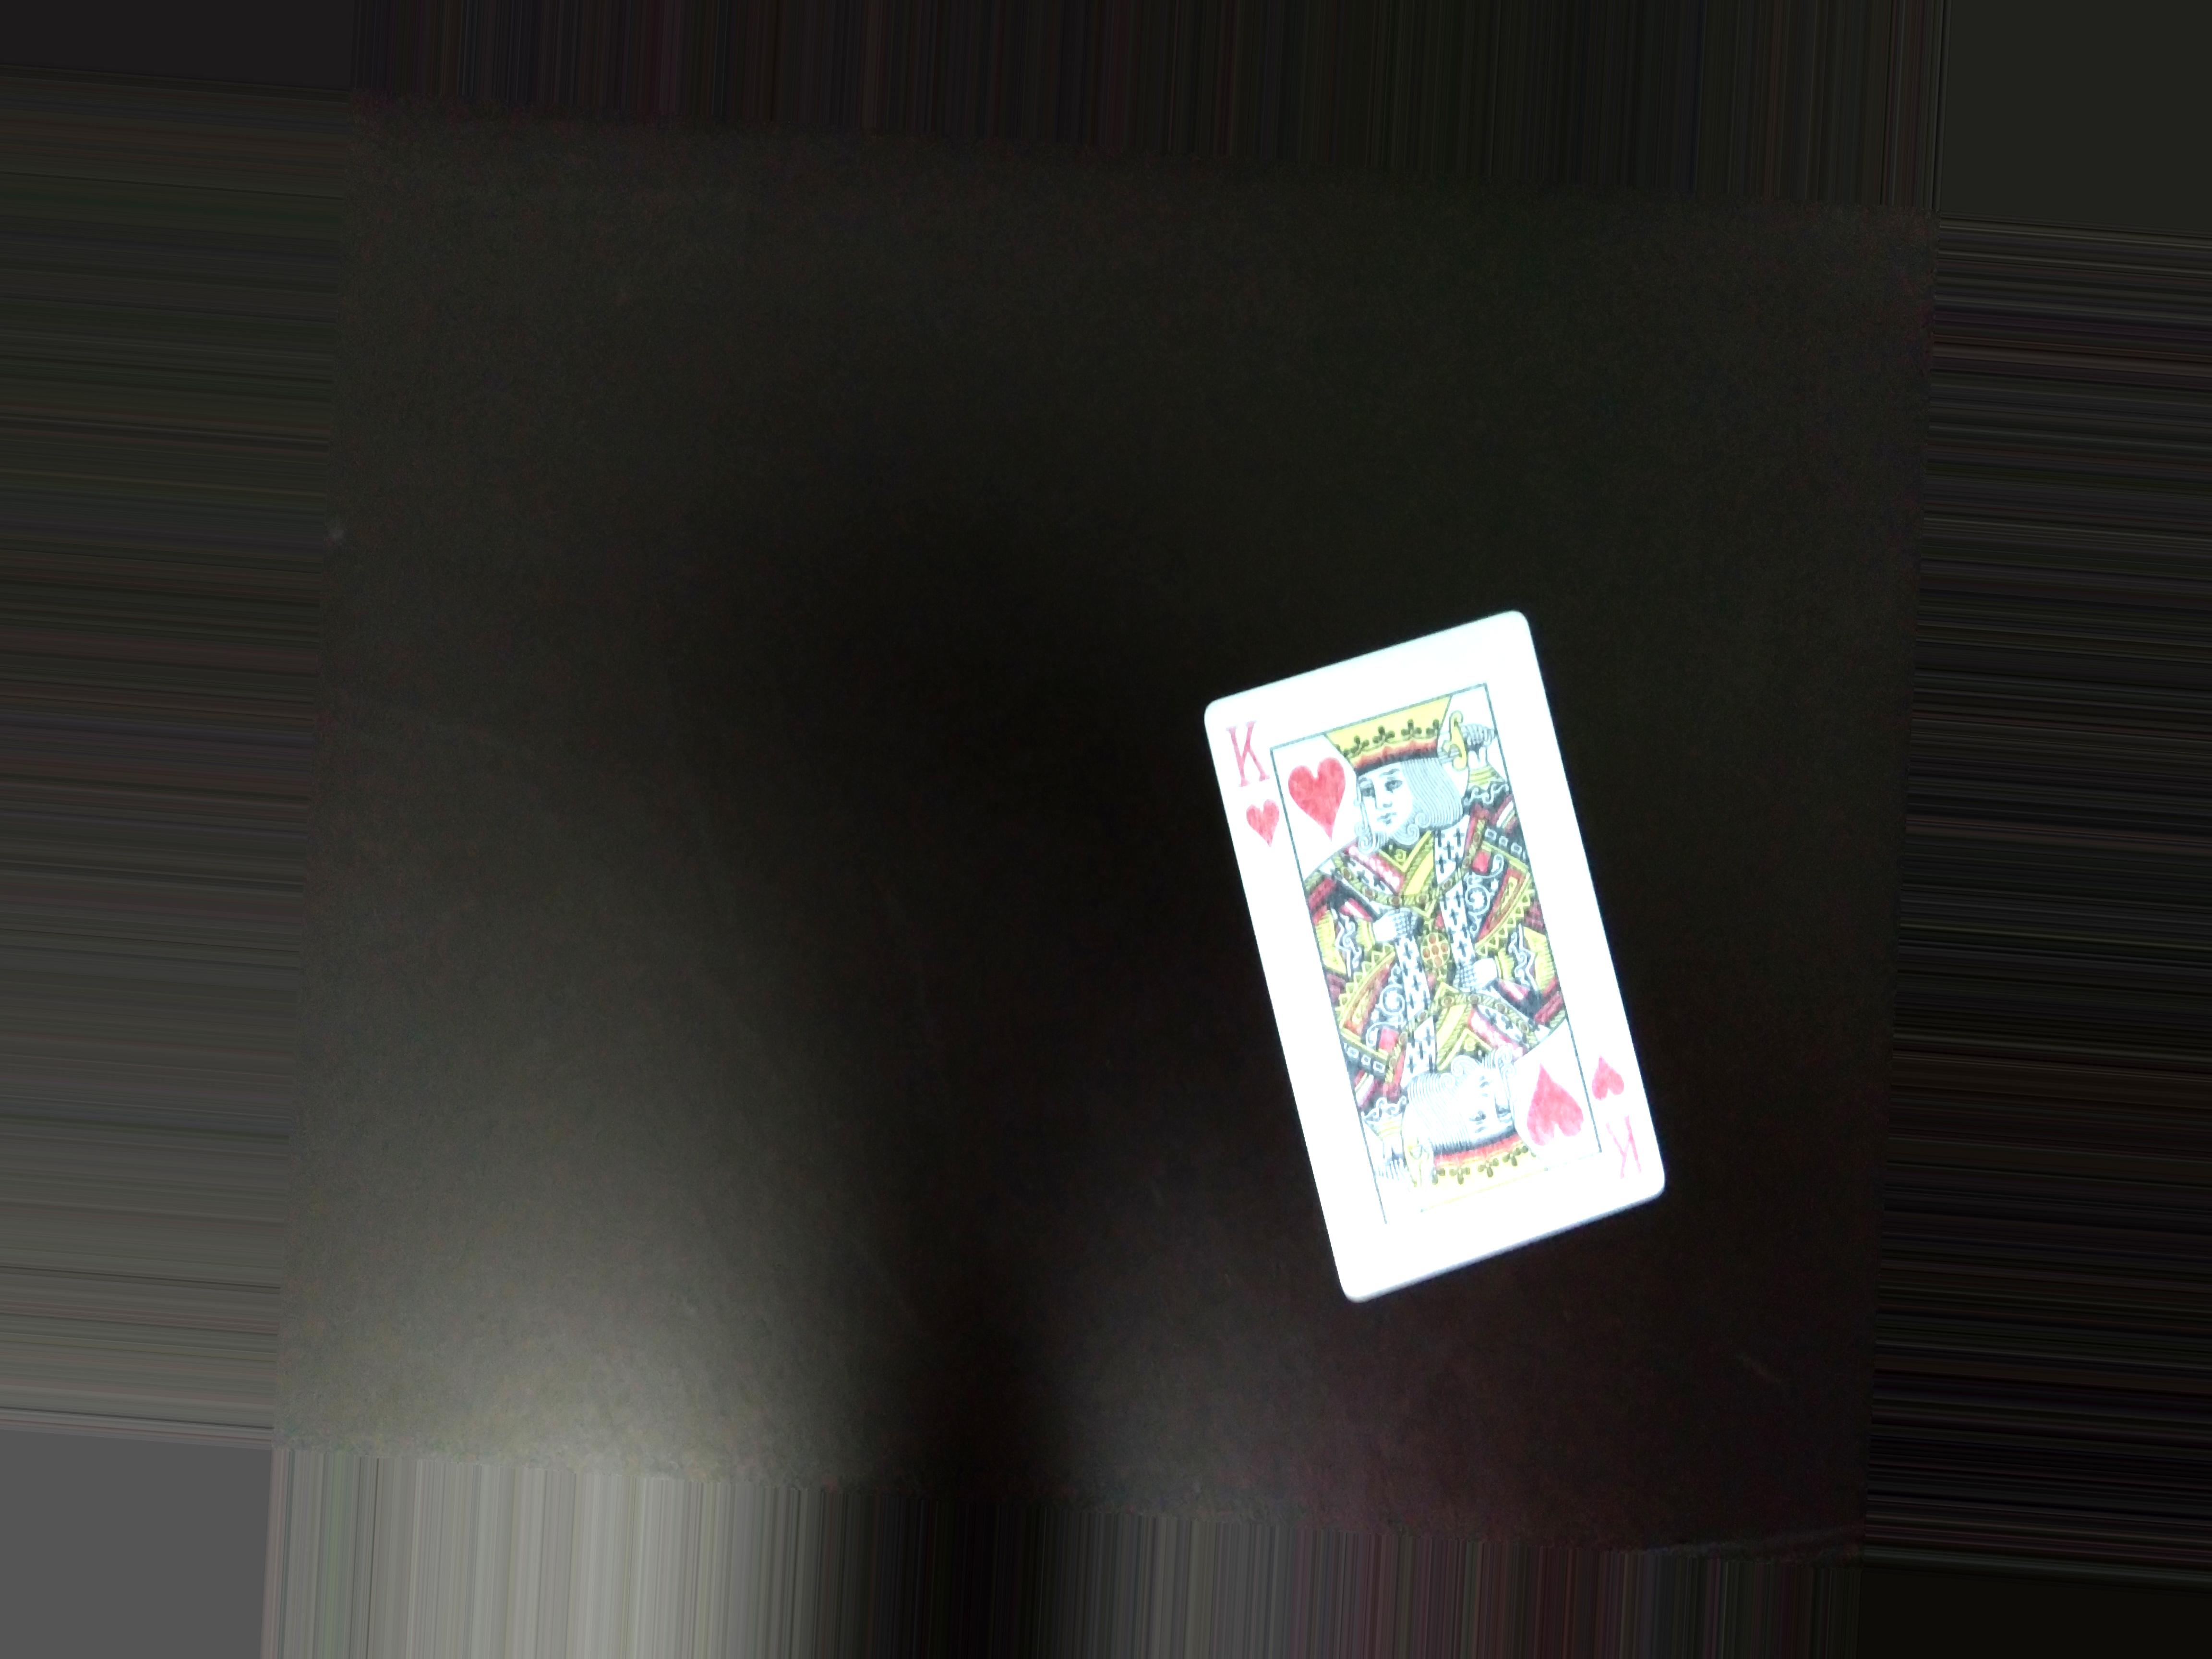KH: (1217, 709, 1275, 849)
